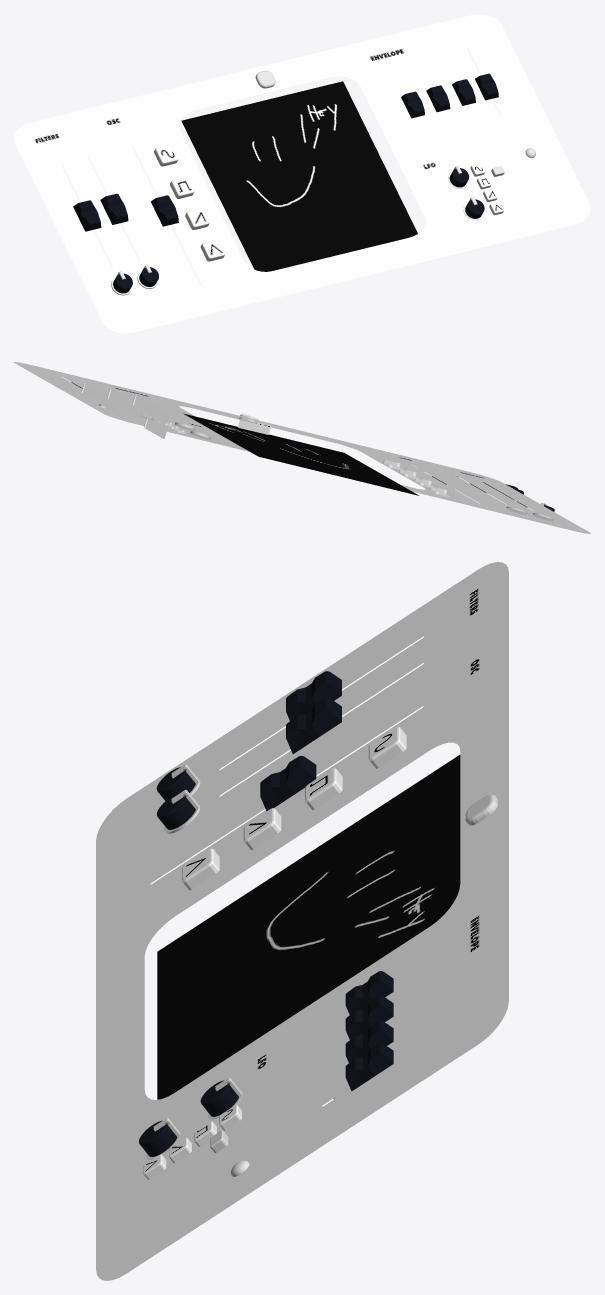
The model's file is Command board.glb.
3 views of the same model, one above another, from view 1: azimuth 30°, elevation 25°; view 2: azimuth 150°, elevation 25°; view 3: azimuth 270°, elevation 25° (orthographic). The views are drawn at different scales.
Parts seen in each view (by area): view 1: Synthe body.003, Screen, Lowpass Slider, Highpass Slider, Frequency Slider, Realease Slider, Sustain Slider, Attack Slider, Decay slider; view 2: Synthe body.003, Screen; view 3: Synthe body.003, Screen, Lowpass Slider, Frequency Slider, Highpass Slider, Realease Slider, Low pass Resonance, Decay slider, Attack Slider, LFO Gain, LFO rate, Sustain Slider (+5 smaller).
Boxes of the visible parts, x1,y1,x2,y2 form: Synthe body.003: (14, 14, 590, 333); Screen: (181, 81, 417, 271); Lowpass Slider: (100, 193, 128, 224); Highpass Slider: (73, 200, 101, 231); Frequency Slider: (151, 195, 178, 226); Realease Slider: (475, 73, 498, 100); Sustain Slider: (452, 79, 475, 105); Attack Slider: (401, 91, 424, 118); Decay slider: (426, 85, 450, 111); Synthe body.003: (14, 362, 590, 533); Screen: (183, 413, 419, 495); Synthe body.003: (96, 562, 508, 1280); Screen: (157, 755, 460, 1099); Lowpass Slider: (286, 697, 341, 753); Frequency Slider: (260, 755, 316, 811); Highpass Slider: (286, 671, 341, 720); Realease Slider: (345, 1043, 393, 1091); Low pass Resonance: (157, 790, 200, 833); Decay slider: (345, 995, 393, 1039); Attack Slider: (345, 971, 393, 1014); LFO Gain: (139, 1118, 180, 1159); LFO rate: (200, 1077, 242, 1119); Sustain Slider: (345, 1020, 393, 1062).
Bounding box in the file's own units: 2.51 × 0.6614 × 0.9204.
Materials: 9 (6 with a texture image).
